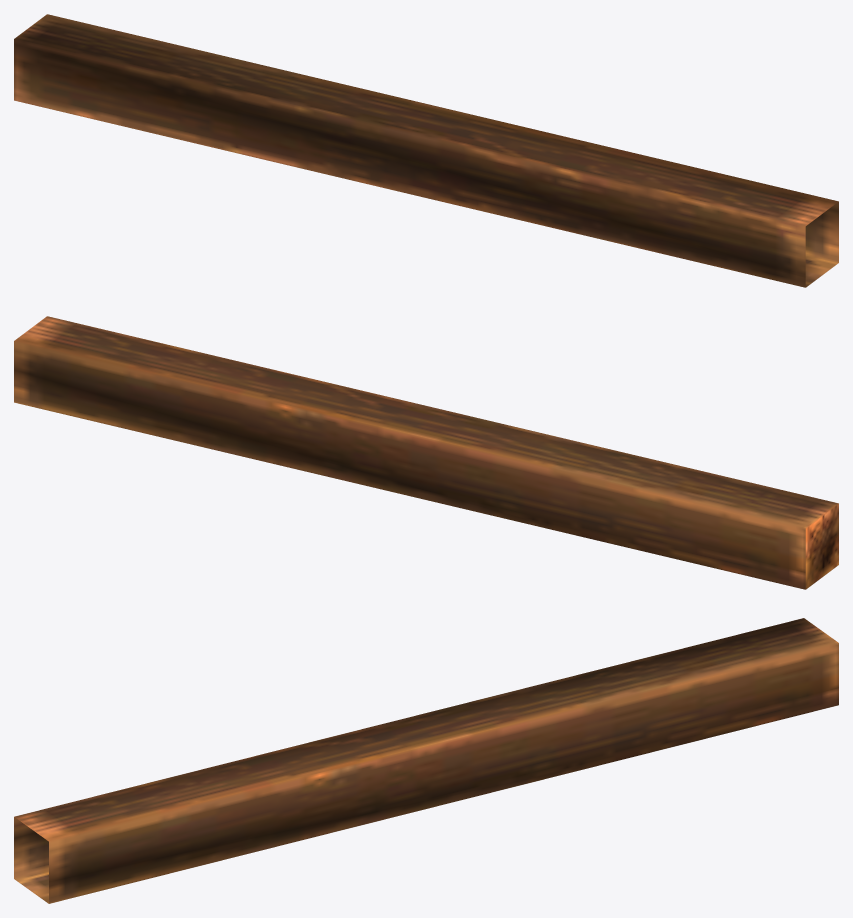
File: SWORDLIGHT20_JAILBRACE05.fbx
3 renders of one model, top to bottom at view 1: azimuth 30°, elevation 25°; view 2: azimuth 210°, elevation 25°; view 3: azimuth 270°, elevation 25°, orthographic.
Parts seen in each view (by area): view 1: SWORDLIGHT20_JAILBRACE05; view 2: SWORDLIGHT20_JAILBRACE05; view 3: SWORDLIGHT20_JAILBRACE05.
Boxes of the visible parts, x1,y1,x2,y2 form: SWORDLIGHT20_JAILBRACE05: (14,14,838,287); SWORDLIGHT20_JAILBRACE05: (14,316,838,589); SWORDLIGHT20_JAILBRACE05: (14,618,838,903).
Bounding box in the file's own units: 30827 × 4000 × 48044.
1 material, 1 textured.
